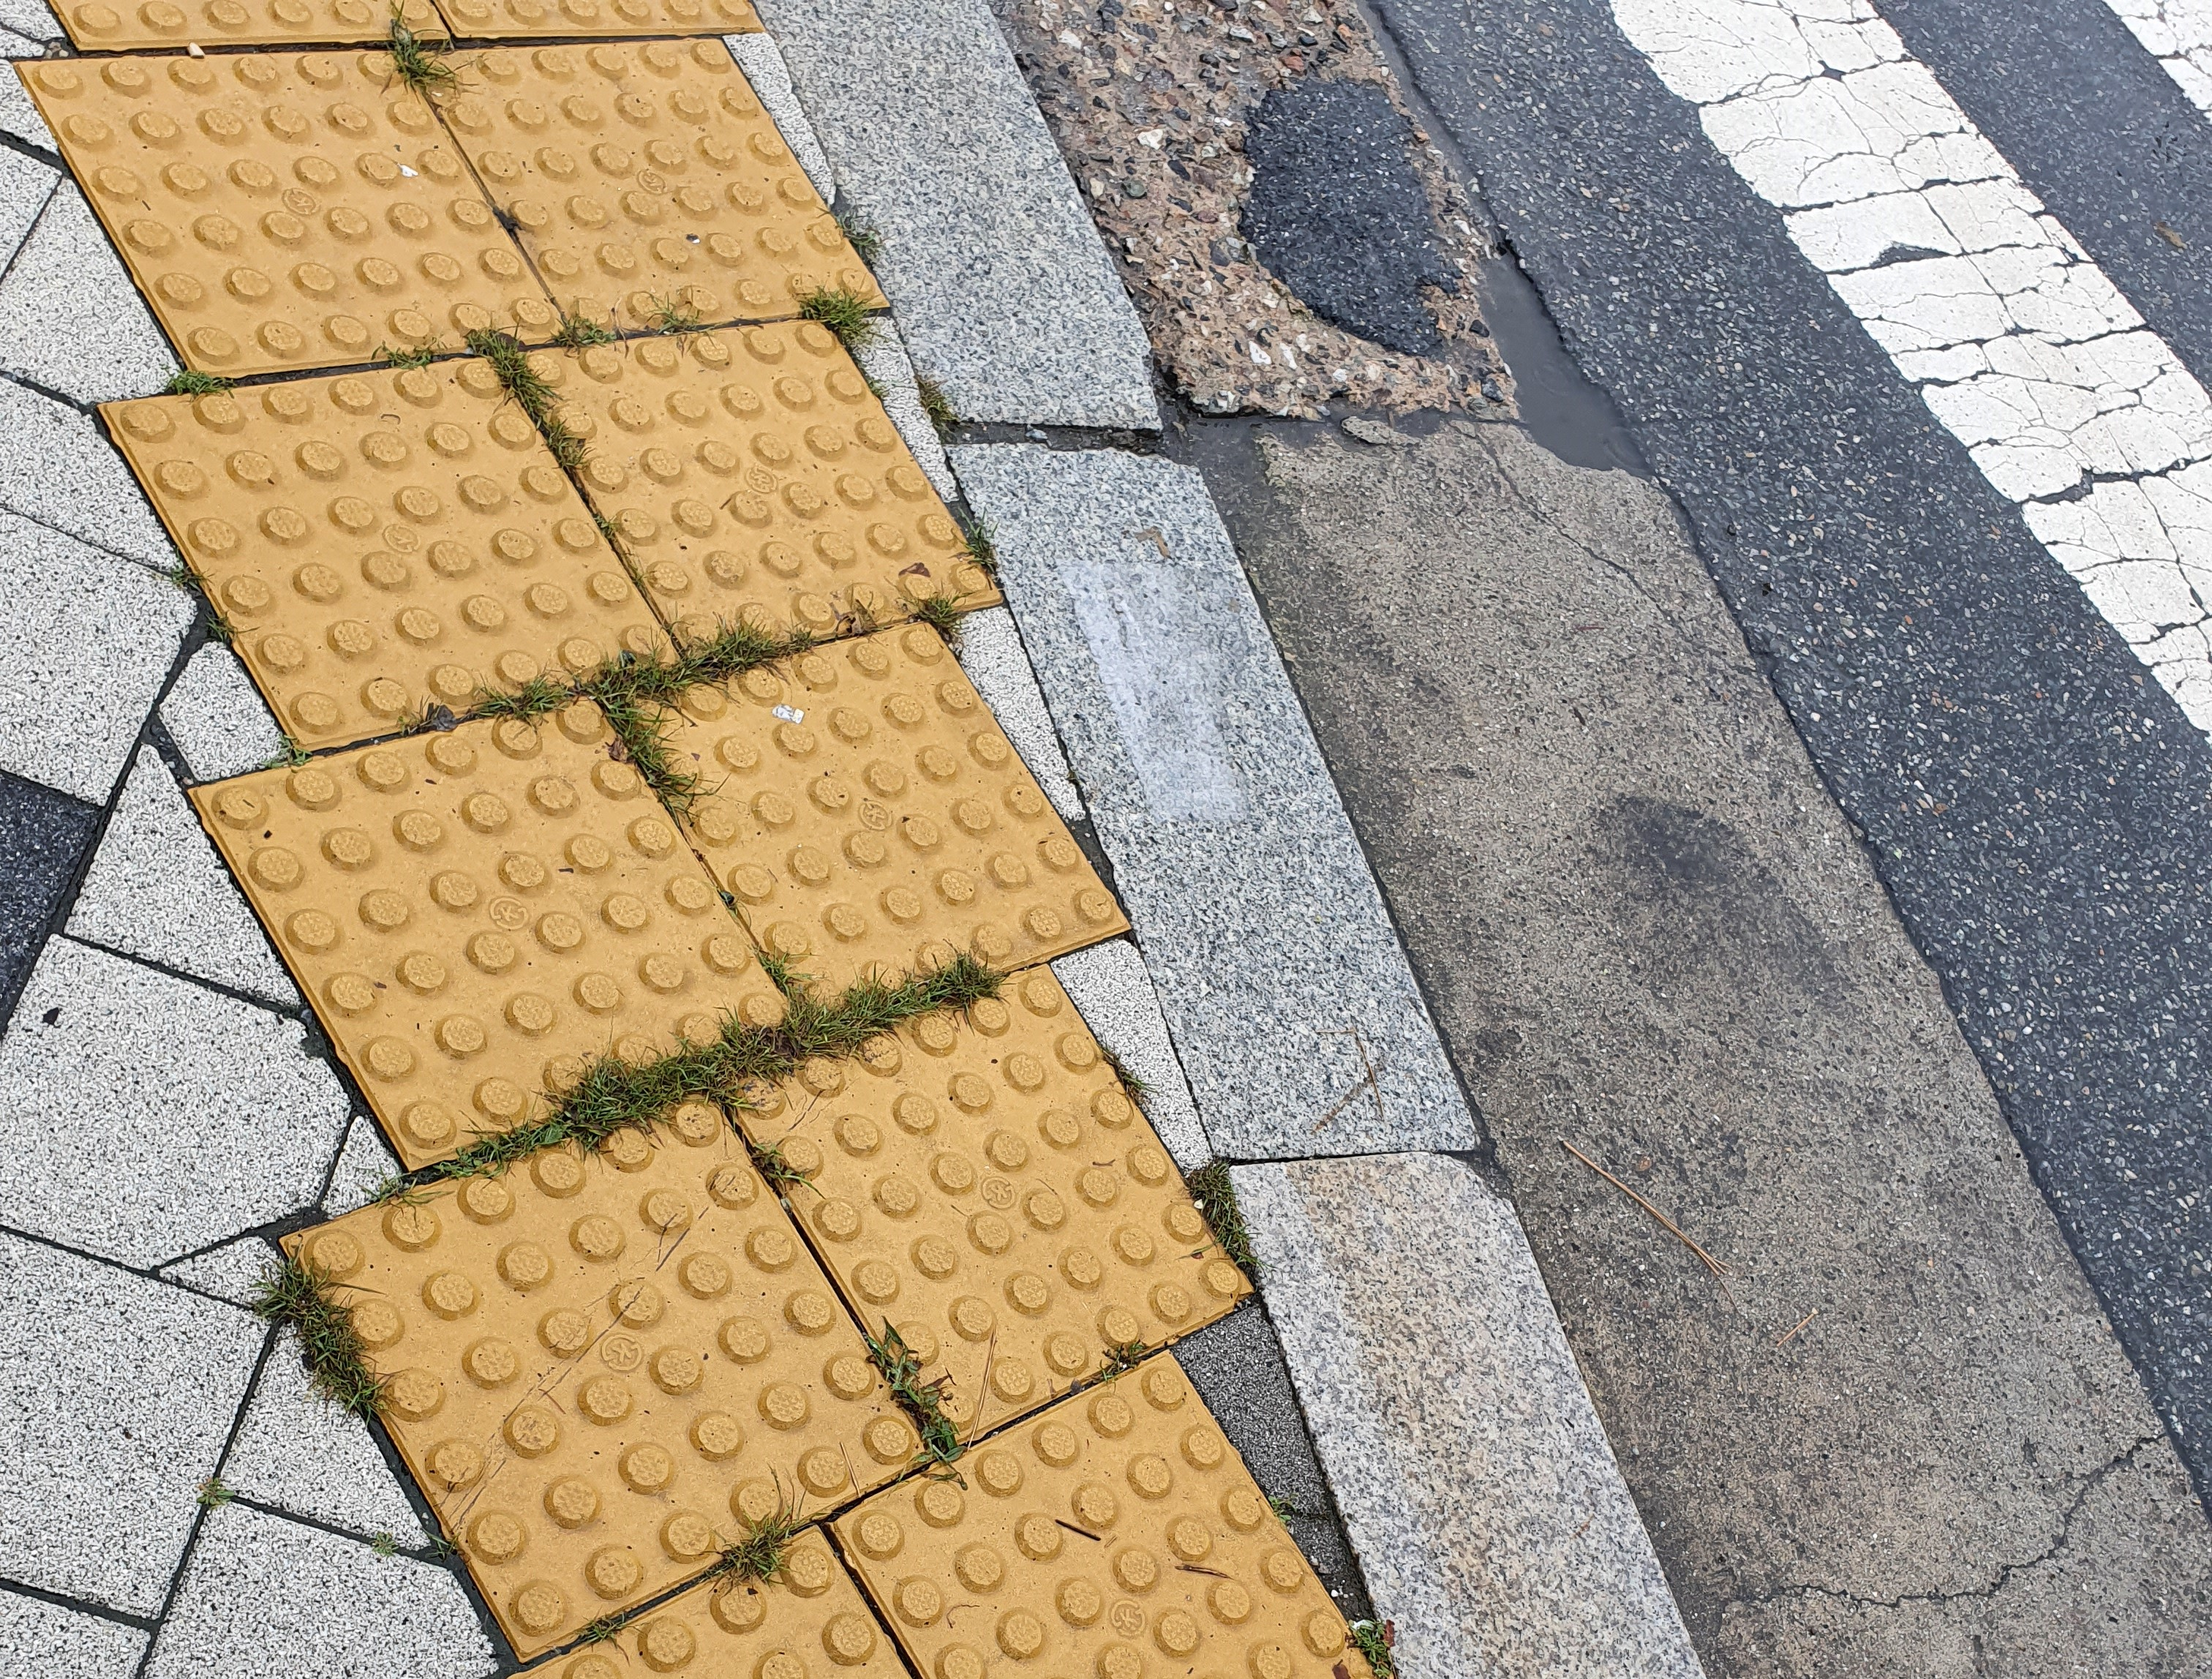warningBlock: (361, 1168, 805, 1575), (208, 765, 749, 1074), (742, 1023, 1169, 1358), (197, 384, 638, 698), (72, 72, 515, 356), (857, 1423, 1327, 1679), (668, 679, 1024, 977), (529, 319, 872, 605), (458, 51, 798, 317)
